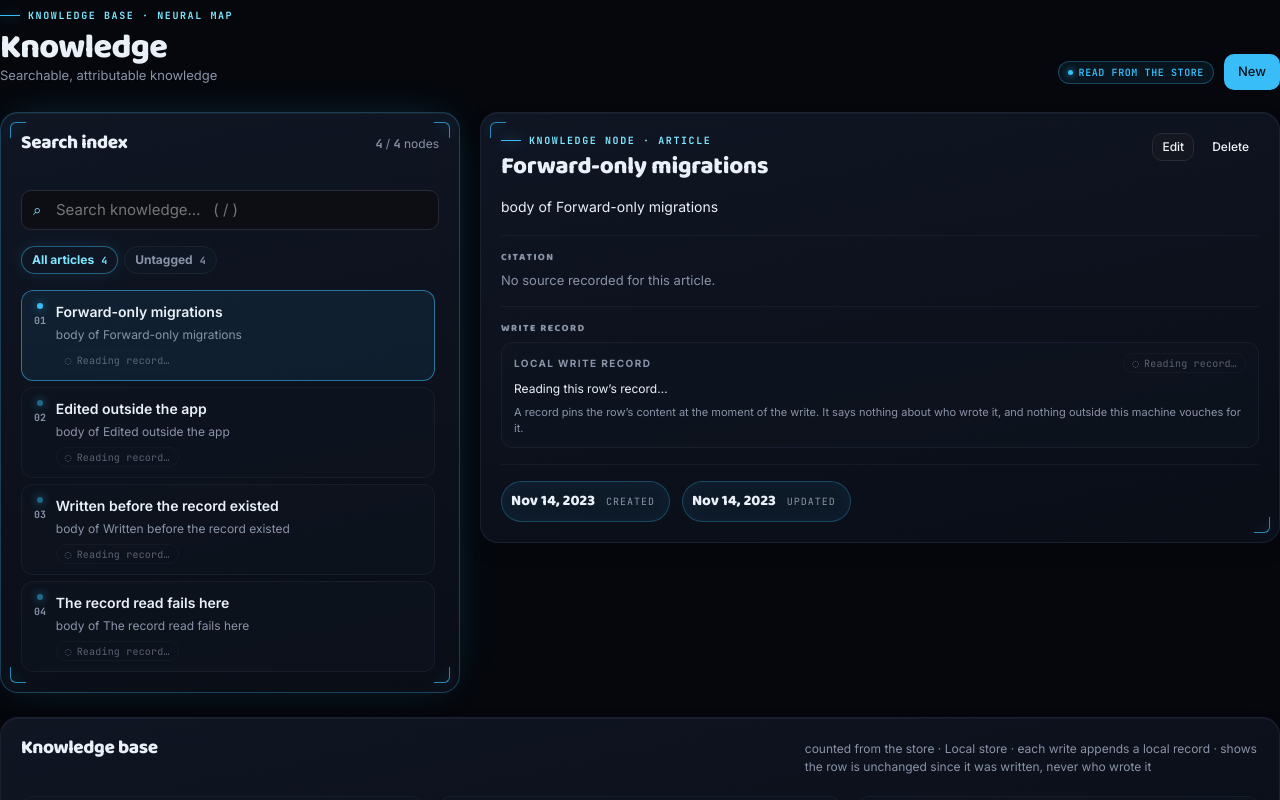
Test case: Knowledge — absence and fault are never the same statement › reports a failed read as a fault, with the backend’s own reason
The width and height of the screenshot is (1280, 800).
Click the text "The record read fails here". click: (143, 603)
box: [56, 594, 229, 611]
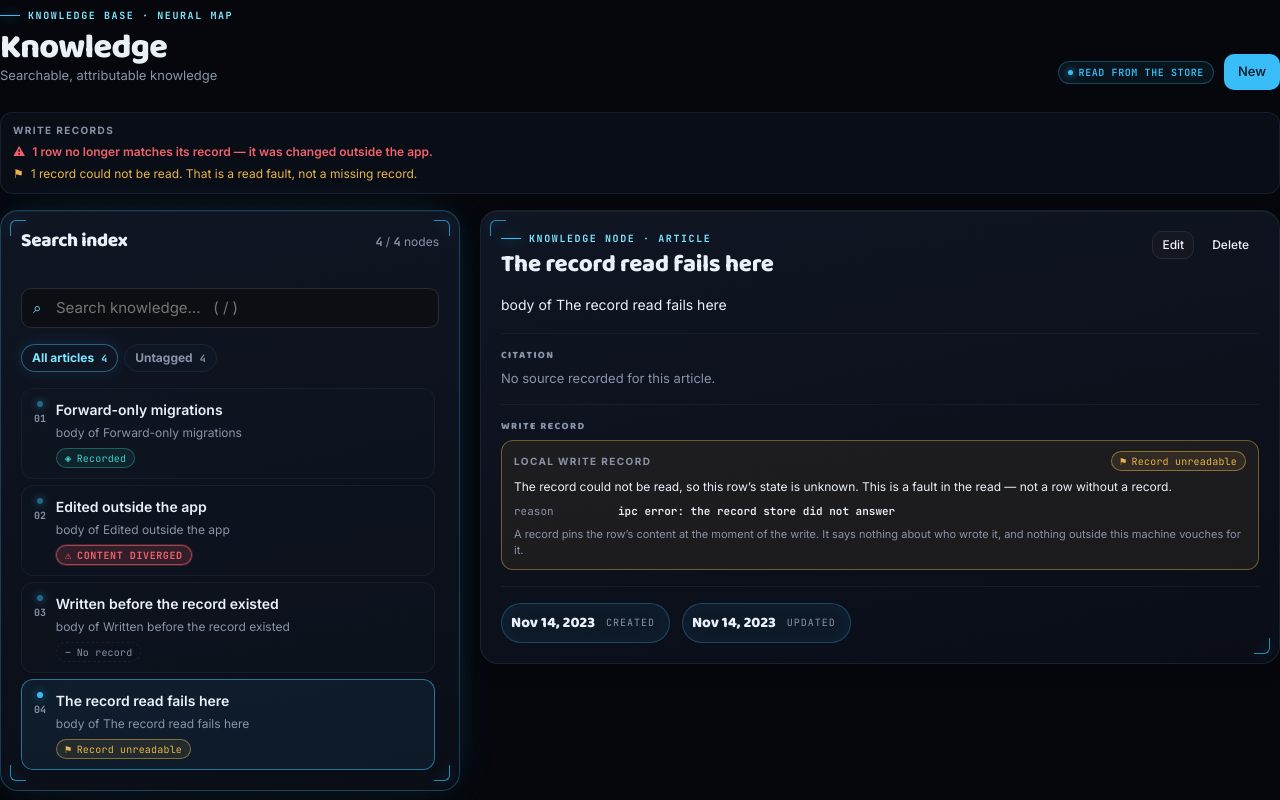
Check: the element with class "kb-article" shows "The record read fails here", box [501, 245, 774, 284]
Check: the message with class "wrec-panel" shows "this row’s state is unknown", box [514, 479, 1172, 494]
Check: the message with class "wrec-panel" shows "not a row without a record", box [514, 479, 1172, 494]
